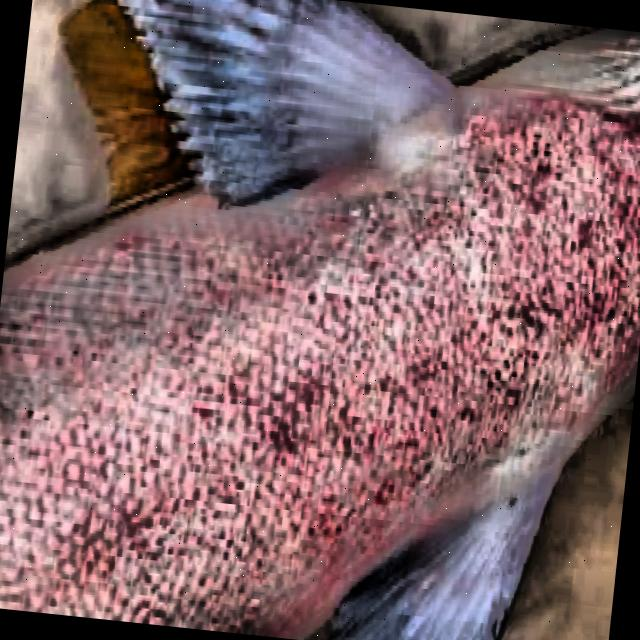mild_red: (0, 82, 640, 640)
